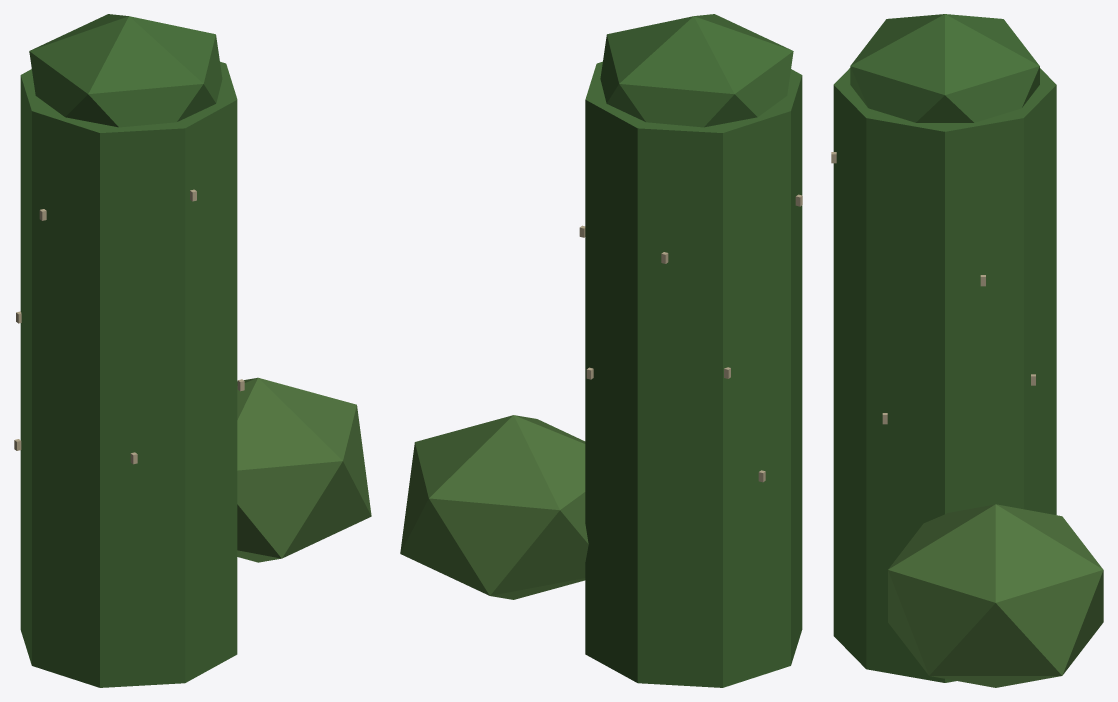
The model's file is bg_desert_cactus_3_lod0.glb.
The picture shows the model from 3 angles, left to right: view 1: azimuth 30°, elevation 25°; view 2: azimuth 150°, elevation 25°; view 3: azimuth 270°, elevation 25°; orthographic projection.
Visible parts, largest first — view 1: body; view 2: body; view 3: body.
Boxes of the visible parts, bbox=[...] form: body: bbox=[14, 14, 371, 687]; body: bbox=[400, 14, 802, 687]; body: bbox=[831, 14, 1103, 687].
Bounding box in the file's own units: 0.7952 × 1.35 × 0.5368.
